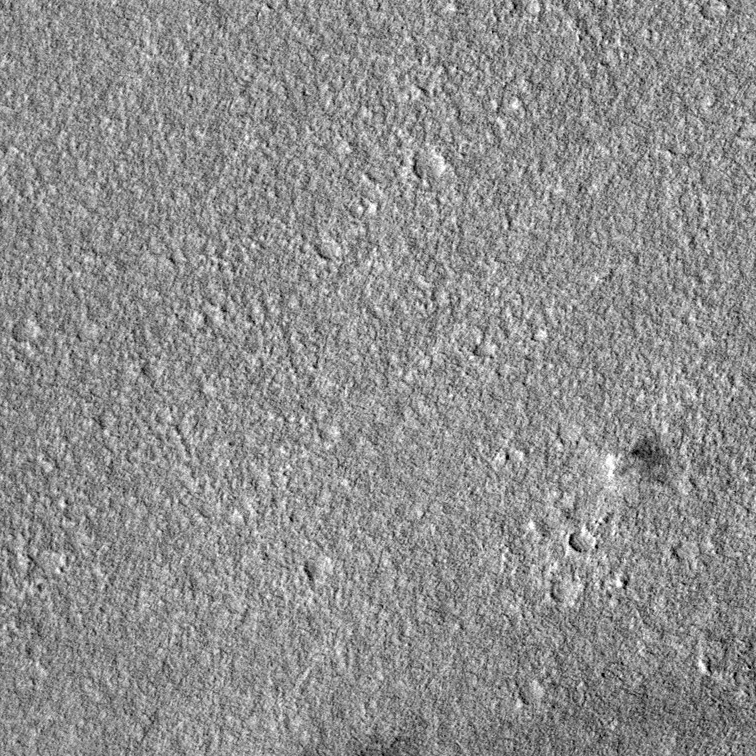dust_devil: (601, 426, 684, 496)
